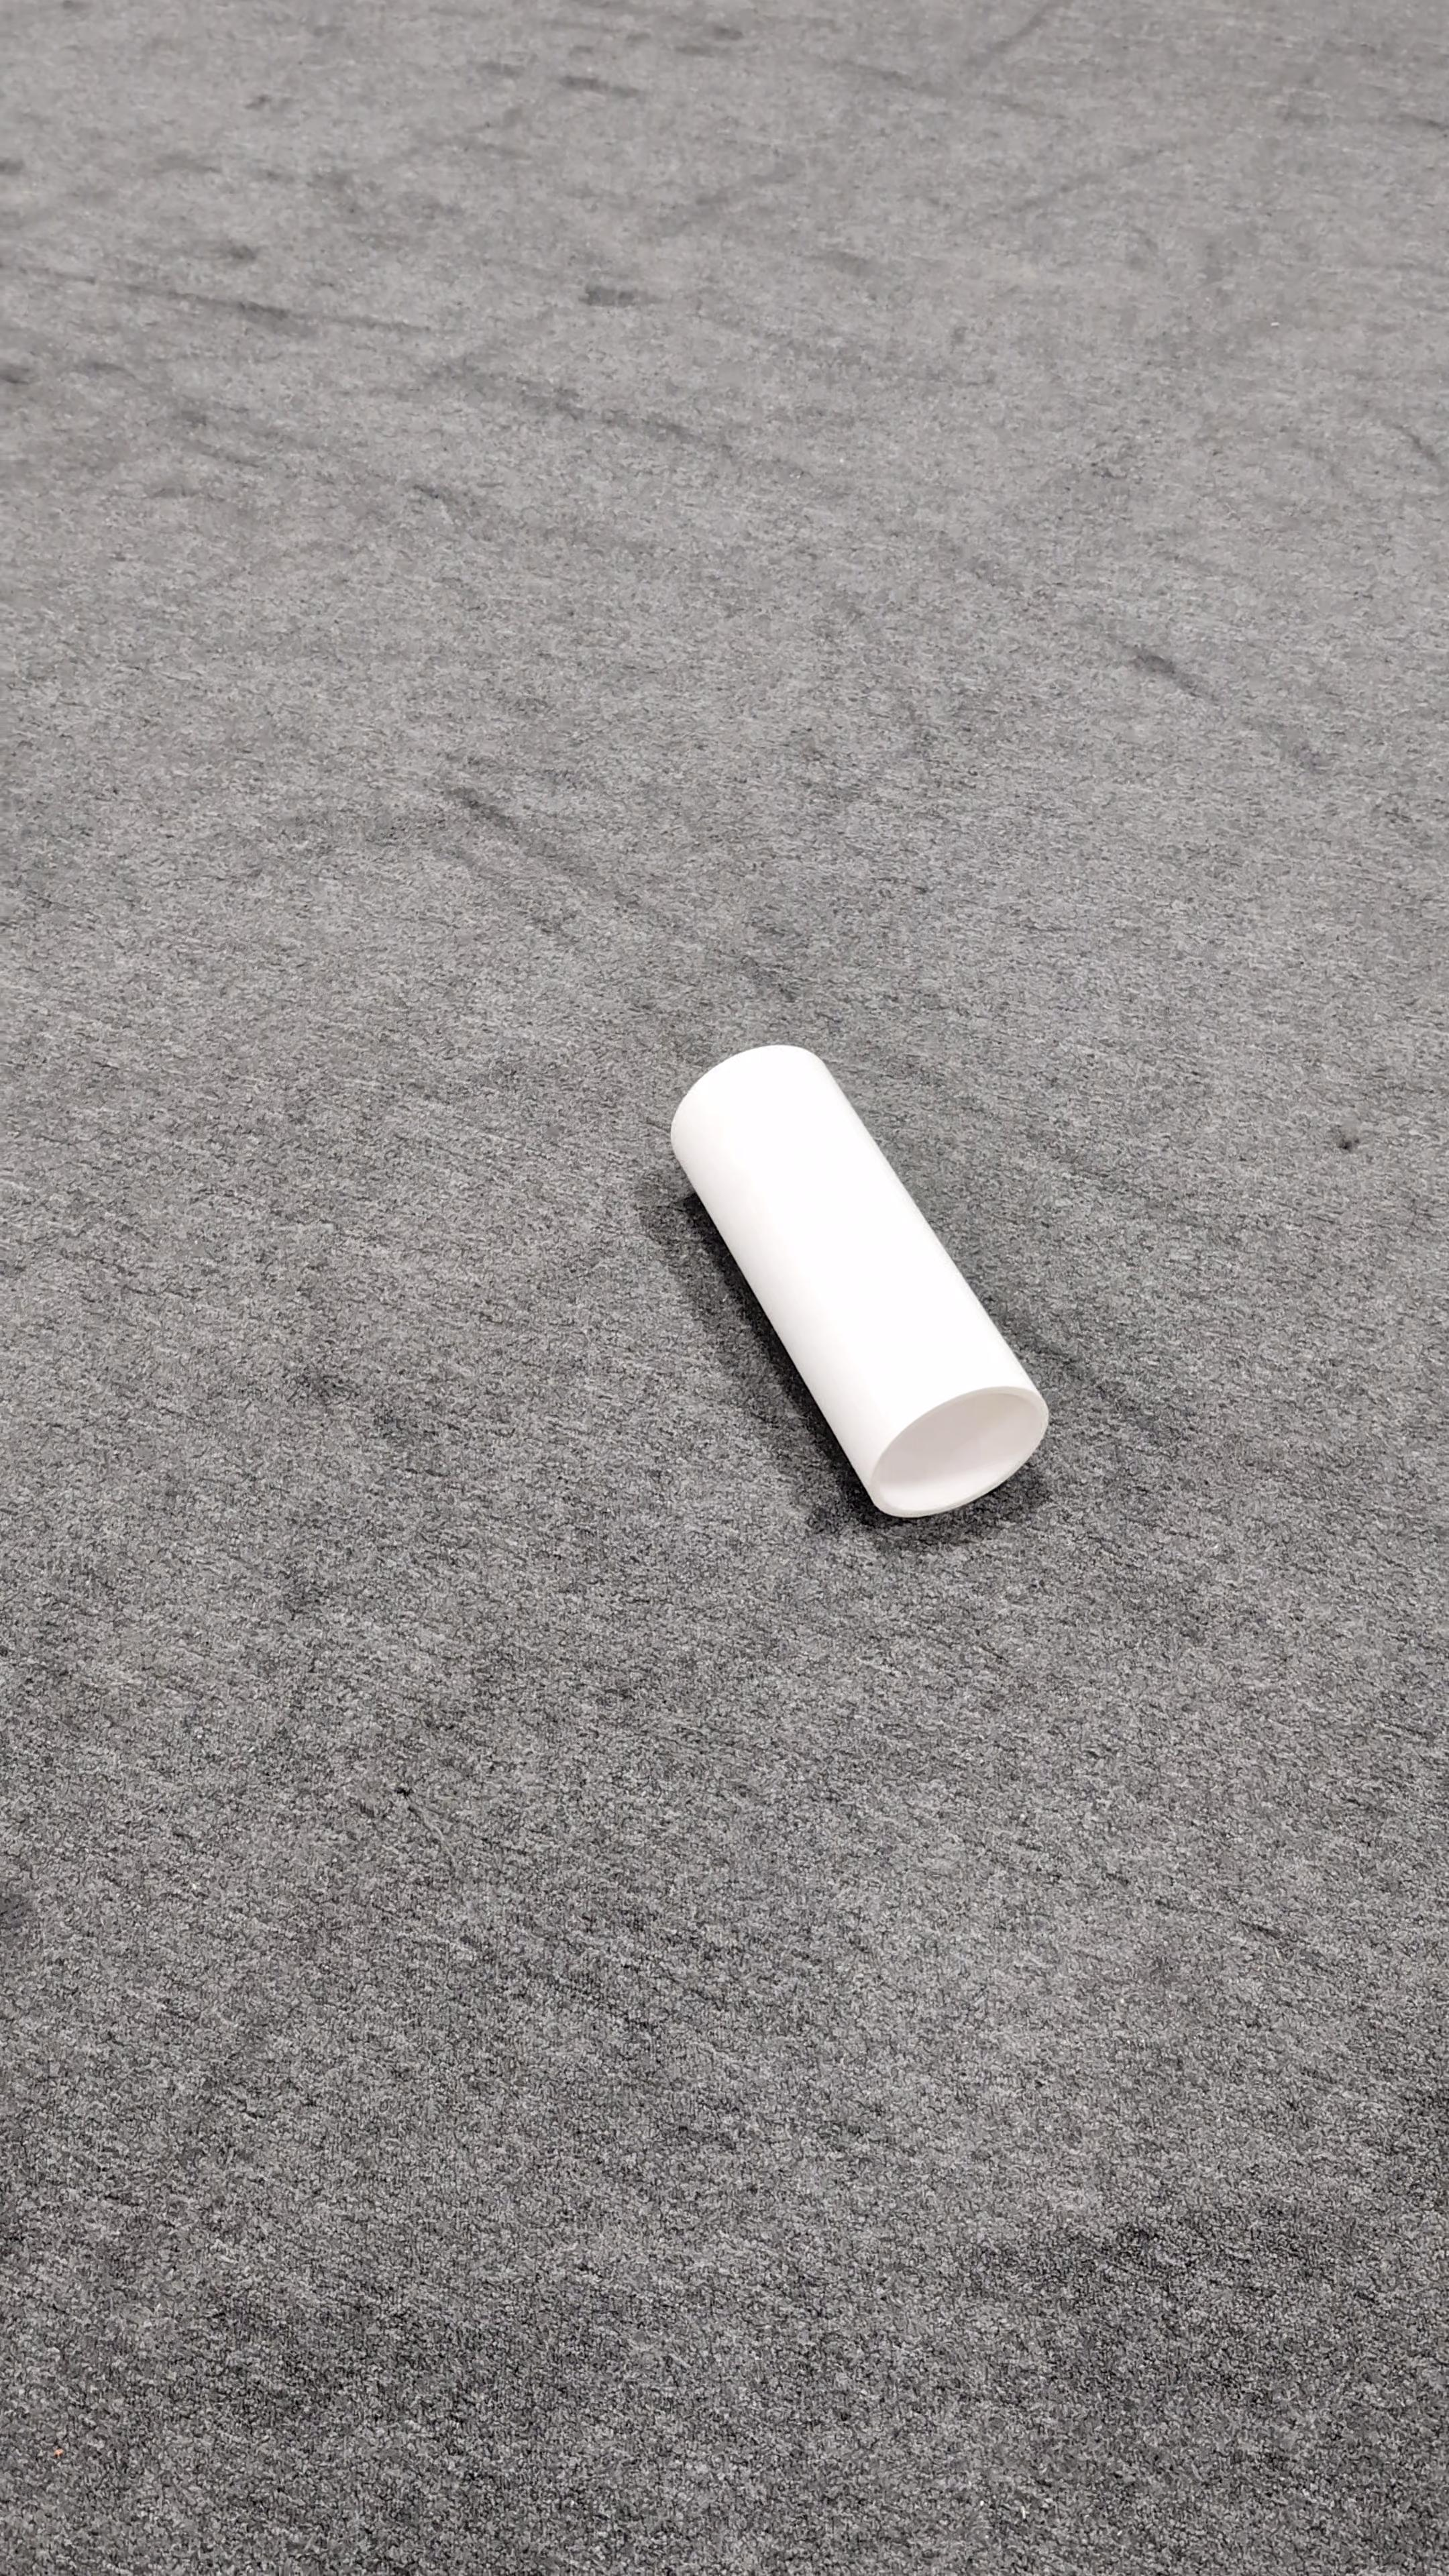coral: (667, 1037, 1051, 1516)
